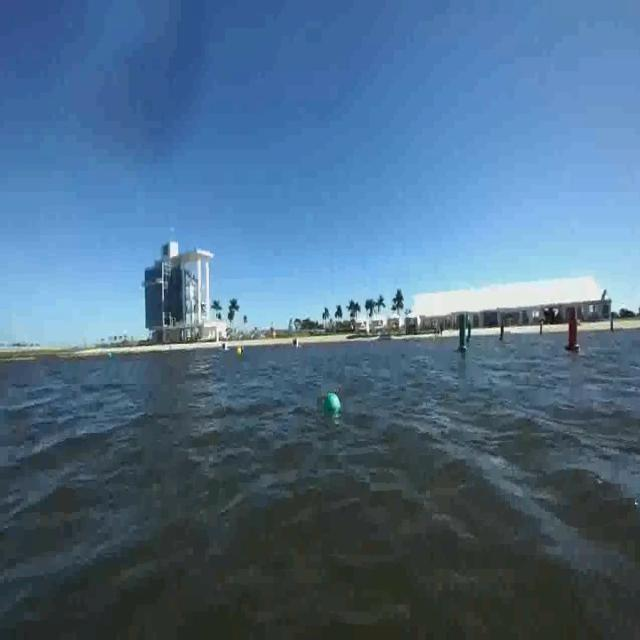green-buoy: (327, 396, 341, 416)
green-column-buoy: (457, 316, 469, 353)
red-column-buoy: (564, 306, 581, 352)
